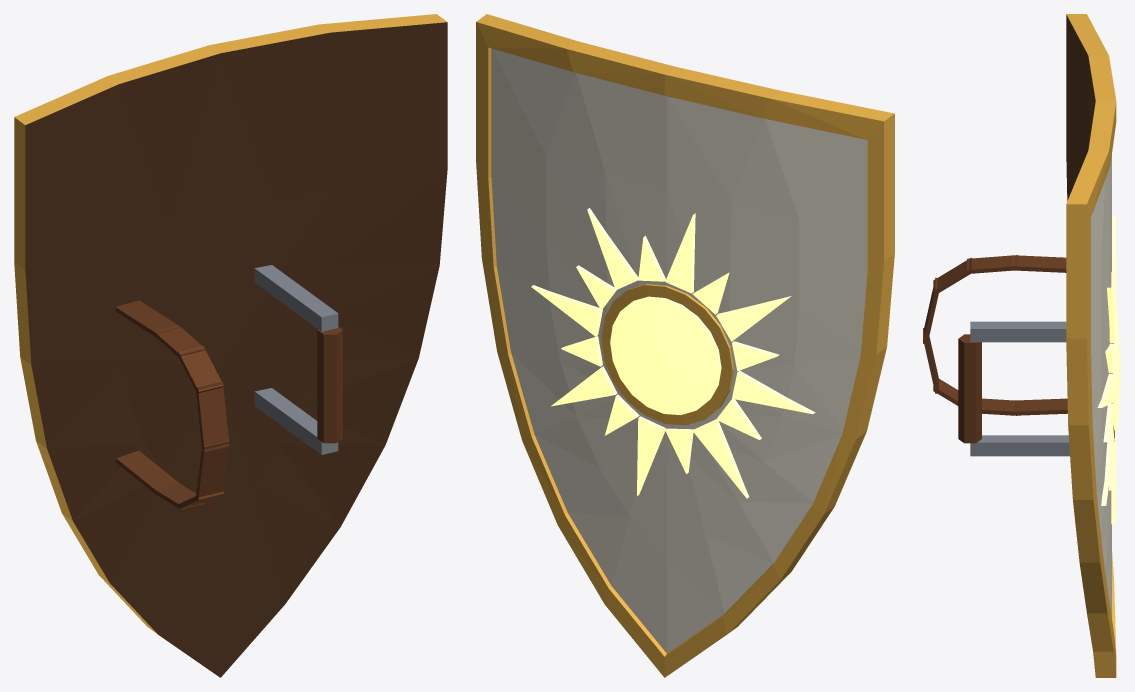
File: W2S_SunShield.fbx
The picture shows the model from 3 angles, left to right: view 1: azimuth 30°, elevation 25°; view 2: azimuth 150°, elevation 25°; view 3: azimuth 270°, elevation 25°; orthographic projection. The views are drawn at different scales.
Parts seen in each view (by area): view 1: W2S_SunShield; view 2: W2S_SunShield; view 3: W2S_SunShield.
Part boxes in pixels (bbox=[...]): W2S_SunShield: bbox=[14, 14, 447, 677]; W2S_SunShield: bbox=[476, 14, 894, 677]; W2S_SunShield: bbox=[923, 14, 1120, 677].
Size of the model in its own units: 61 by 86.2 by 26.77.
